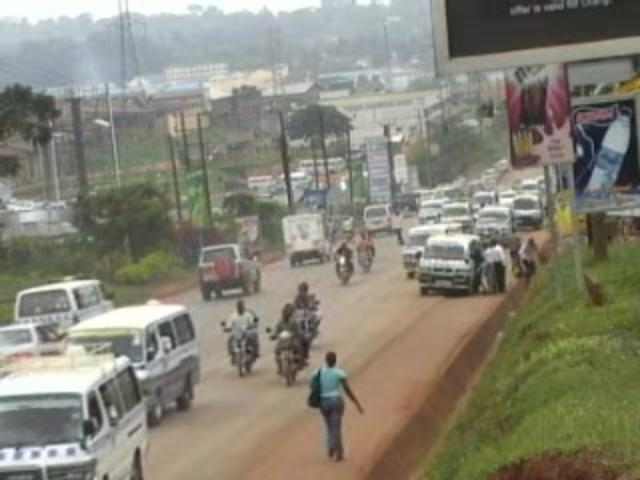car: (197, 242, 263, 296)
motorcycle: (221, 296, 264, 377), (268, 301, 308, 387), (292, 277, 324, 345), (355, 230, 378, 275), (335, 242, 356, 285)
truck: (278, 211, 330, 263)
van: (0, 354, 144, 480), (61, 301, 201, 416), (11, 275, 117, 314), (417, 227, 474, 296)
